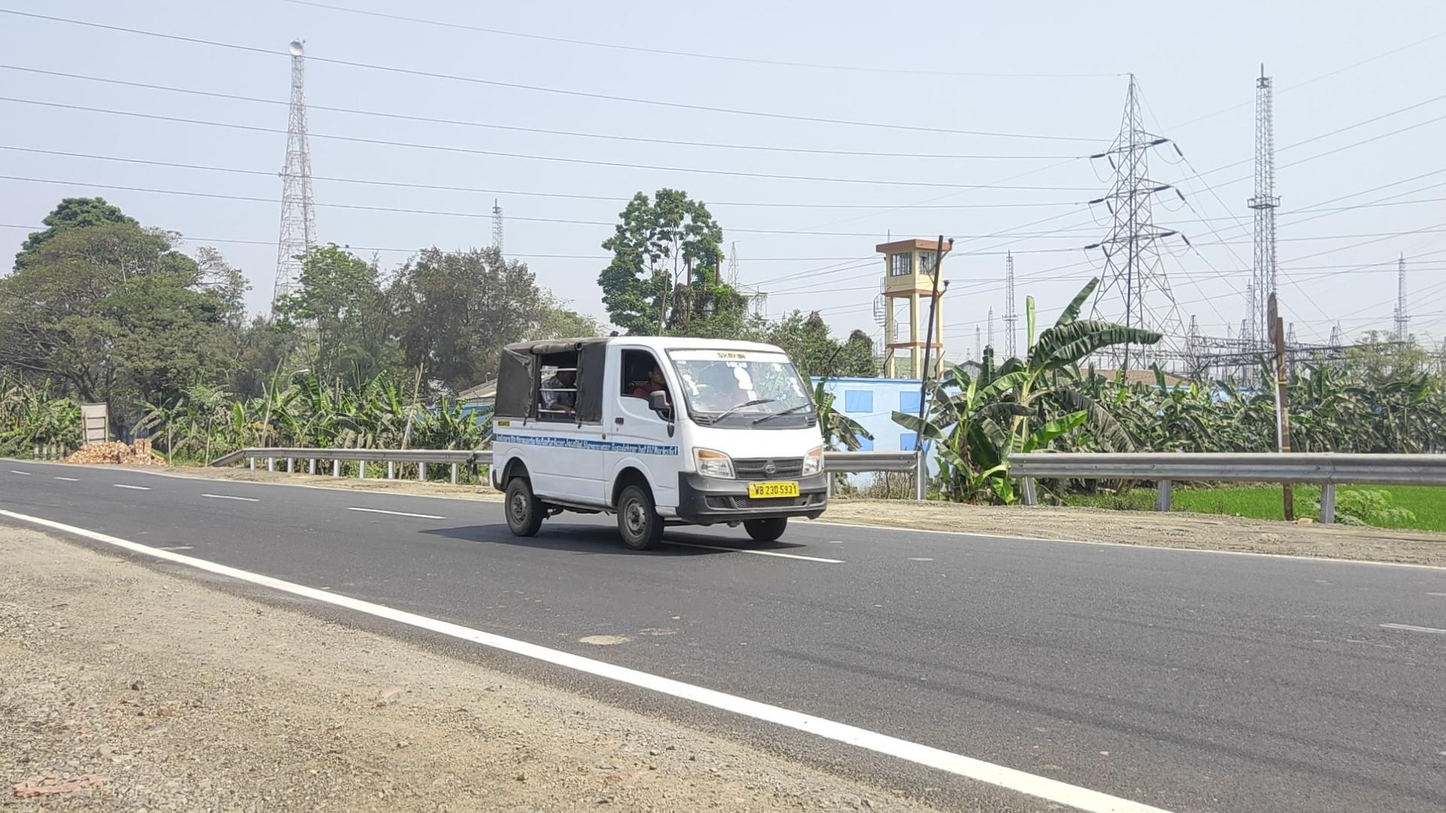van: (492, 336, 828, 550)
